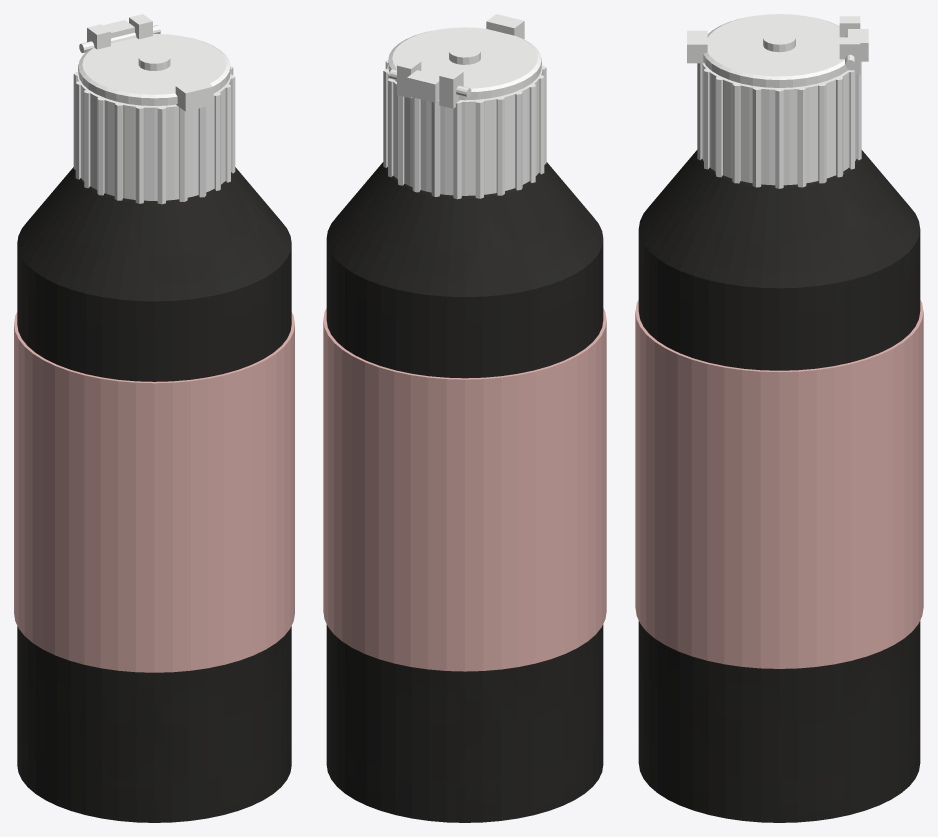
Rendered from Container_Pump__0005.glb.
3 views of the same model, side by side, from view 1: azimuth 30°, elevation 25°; view 2: azimuth 150°, elevation 25°; view 3: azimuth 270°, elevation 25° (orthographic). The views are drawn at different scales.
Visible parts, largest first — view 1: bottle::bottle_shell, bottle::label_band, collar::collar_shell, flip_cap::cap_disc, collar::collar_knurl; view 2: bottle::bottle_shell, bottle::label_band, collar::collar_shell, collar::collar_knurl, flip_cap::cap_disc; view 3: bottle::bottle_shell, bottle::label_band, collar::collar_shell, flip_cap::cap_disc, collar::collar_knurl.
Boxes of the visible parts, x1=… form: bottle::bottle_shell: x1=17, y1=167, x2=291, y2=822; bottle::label_band: x1=14, y1=312, x2=294, y2=672; collar::collar_shell: x1=77, y1=14, x2=231, y2=200; flip_cap::cap_disc: x1=78, y1=20, x2=230, y2=111; collar::collar_knurl: x1=73, y1=64, x2=235, y2=204; bottle::bottle_shell: x1=326, y1=162, x2=603, y2=822; bottle::label_band: x1=323, y1=308, x2=606, y2=671; collar::collar_shell: x1=387, y1=44, x2=542, y2=195; collar::collar_knurl: x1=383, y1=57, x2=546, y2=199; flip_cap::cap_disc: x1=388, y1=14, x2=541, y2=102; bottle::bottle_shell: x1=638, y1=150, x2=920, y2=822; bottle::label_band: x1=635, y1=300, x2=923, y2=668; collar::collar_shell: x1=702, y1=16, x2=860, y2=185; flip_cap::cap_disc: x1=687, y1=14, x2=868, y2=87; collar::collar_knurl: x1=697, y1=61, x2=861, y2=188.
Bounding box in the file's own units: 0.0697 × 0.1997 × 0.0697.
Materials: 3 (1 with a texture image).
